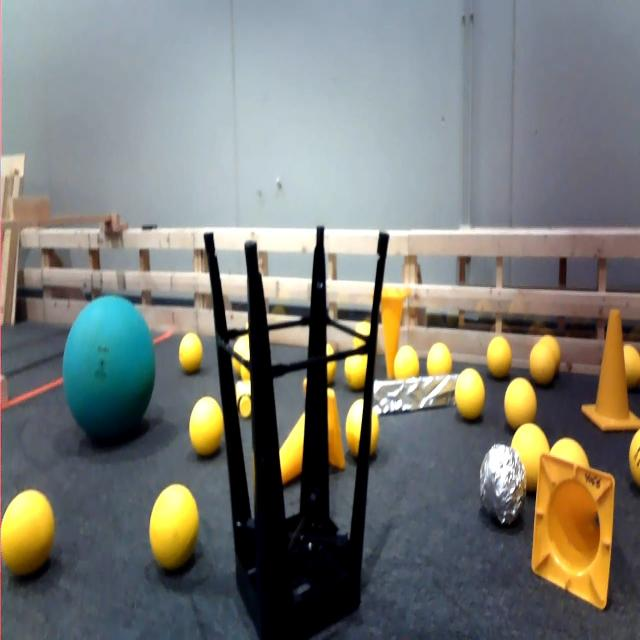fuel: (139, 475, 212, 581), (1, 474, 62, 589), (189, 388, 229, 466), (510, 418, 549, 496), (342, 395, 381, 467), (451, 361, 487, 424), (500, 374, 537, 434), (548, 432, 596, 472), (486, 325, 517, 380), (526, 338, 558, 389), (171, 328, 204, 377), (341, 344, 369, 396), (426, 337, 456, 381), (621, 332, 640, 391), (317, 338, 339, 387), (393, 346, 420, 382), (231, 333, 251, 381), (540, 328, 565, 363), (629, 427, 640, 492), (352, 318, 374, 350)
